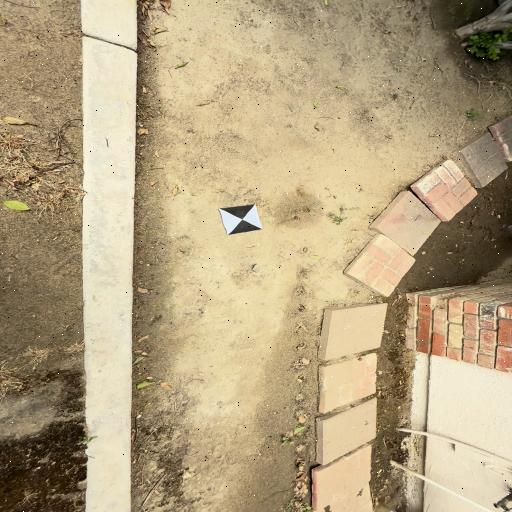target: (218, 204, 262, 235)
